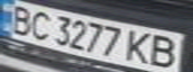2: (66, 16, 87, 52)
3: (48, 14, 72, 48)
7: (100, 24, 127, 60), (84, 20, 106, 55)
B: (145, 33, 184, 70), (3, 2, 39, 36)
C: (24, 8, 57, 41)
K: (124, 28, 157, 65)
